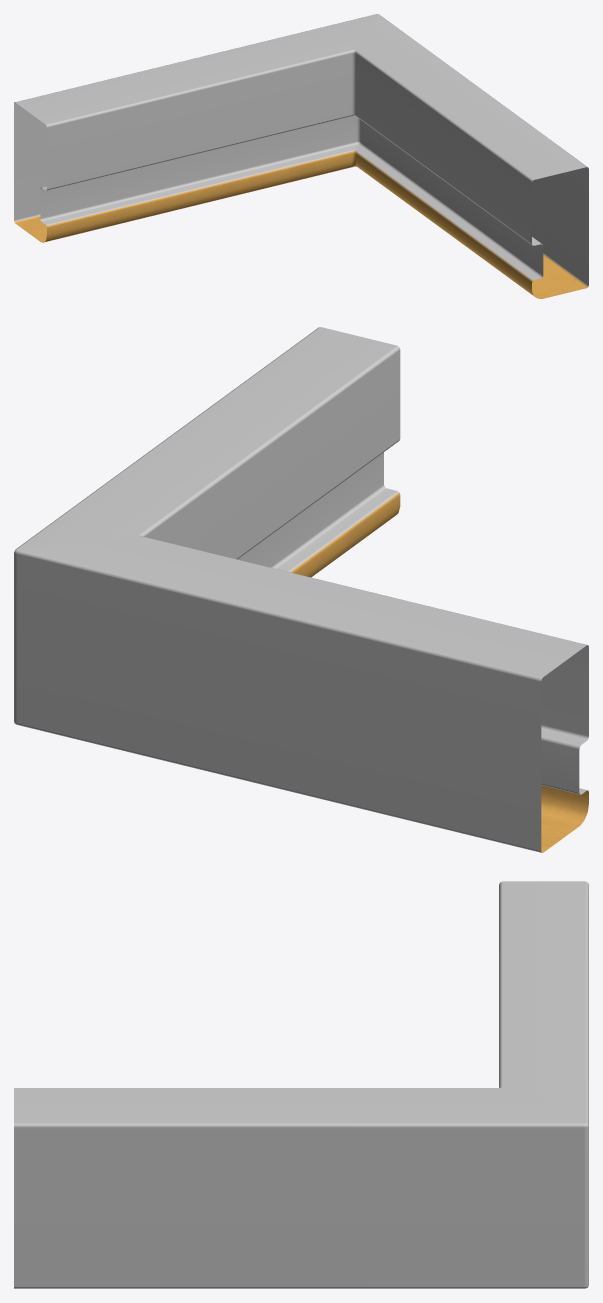
File: SM_Beam_04_Corner_02.fbx
3 views of the same model, one above another, from view 1: azimuth 30°, elevation 25°; view 2: azimuth 150°, elevation 25°; view 3: azimuth 270°, elevation 25° (orthographic). The views are drawn at different scales.
Parts seen in each view (by area): view 1: SM_Beam_04_Corner_02_LOD0; view 2: SM_Beam_04_Corner_02_LOD0; view 3: SM_Beam_04_Corner_02_LOD0.
Boxes of the visible parts, <box> form: SM_Beam_04_Corner_02_LOD0: <box>14,14,588,298</box>; SM_Beam_04_Corner_02_LOD0: <box>14,327,588,852</box>; SM_Beam_04_Corner_02_LOD0: <box>14,881,588,1288</box>.
Size of the model in its own units: 320 by 320 by 102.
